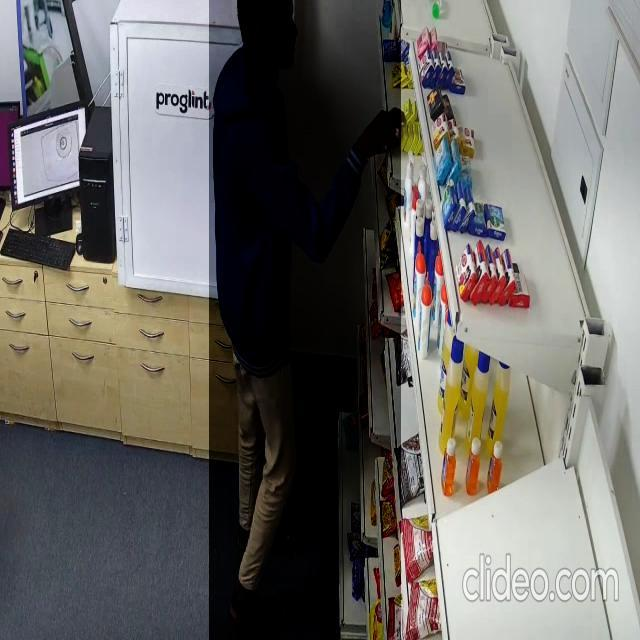normal: (209, 0, 401, 640)
